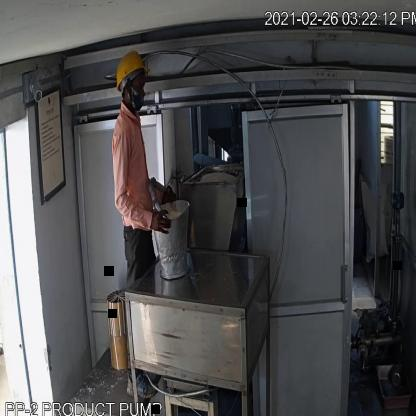helmet: (108, 48, 153, 94)
